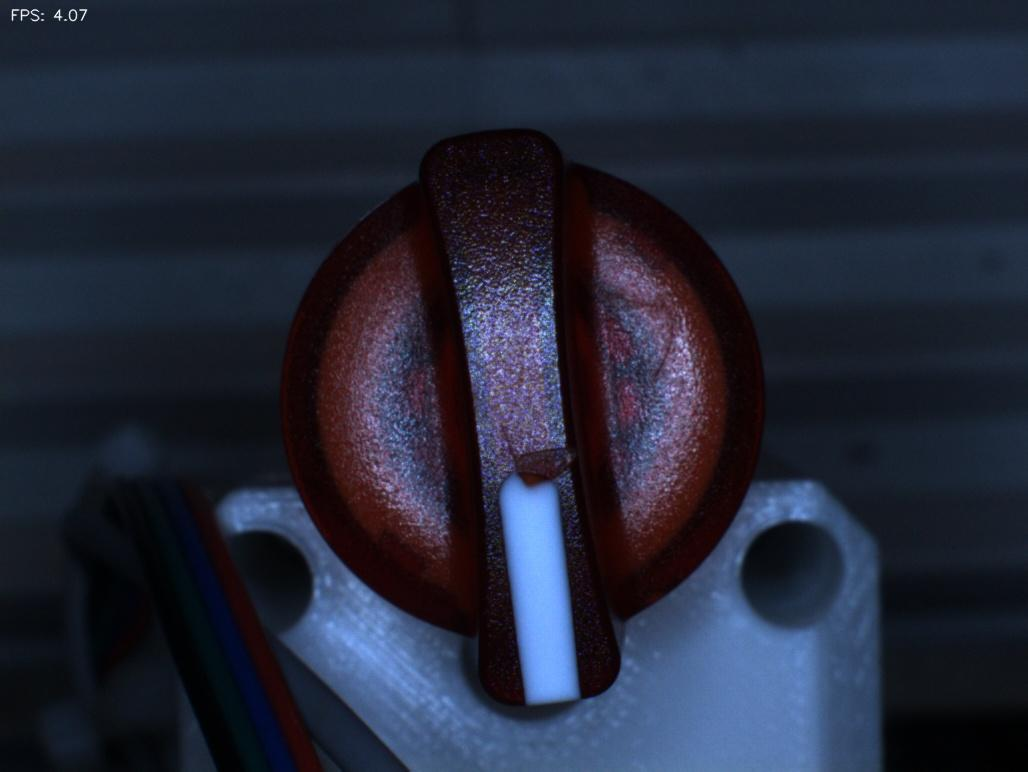Choc: (491, 409, 594, 514)
